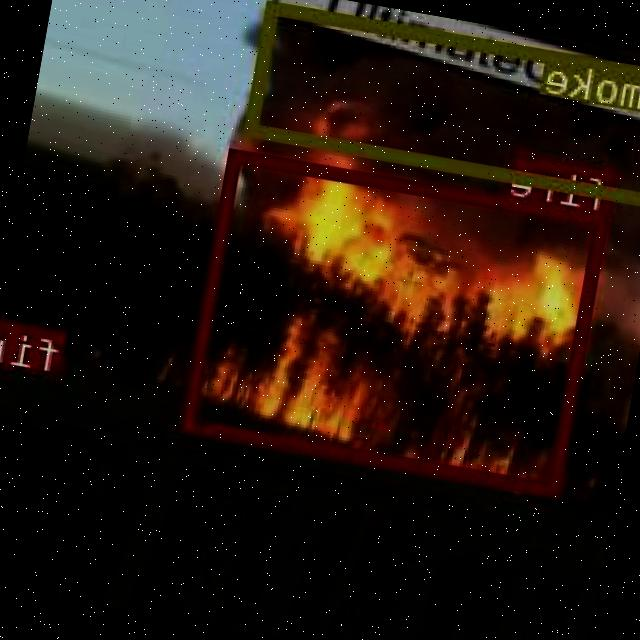fire: (183, 147, 610, 496), (0, 319, 69, 360)
smoke: (248, 0, 640, 205)
